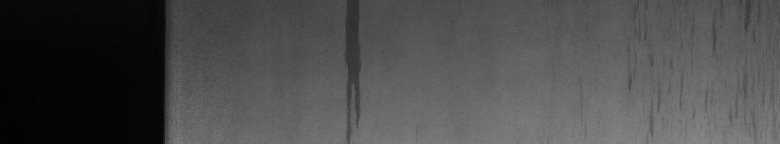hd: (340, 4, 364, 136)
